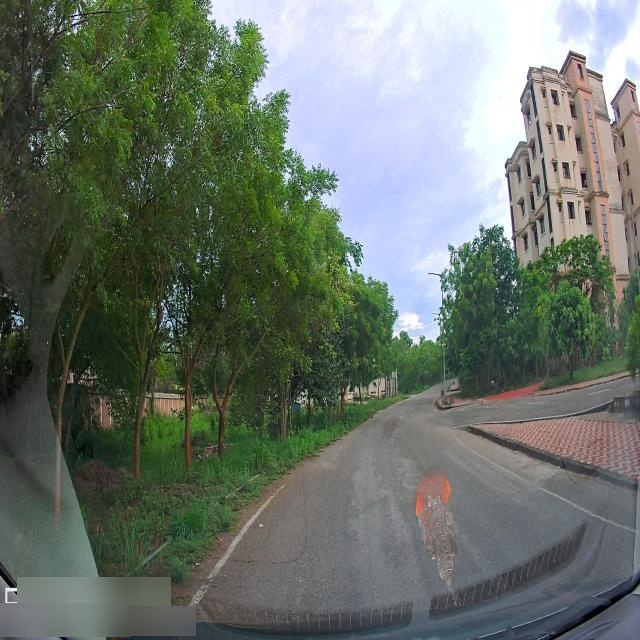pothole: (349, 462, 386, 510), (395, 456, 419, 494)
